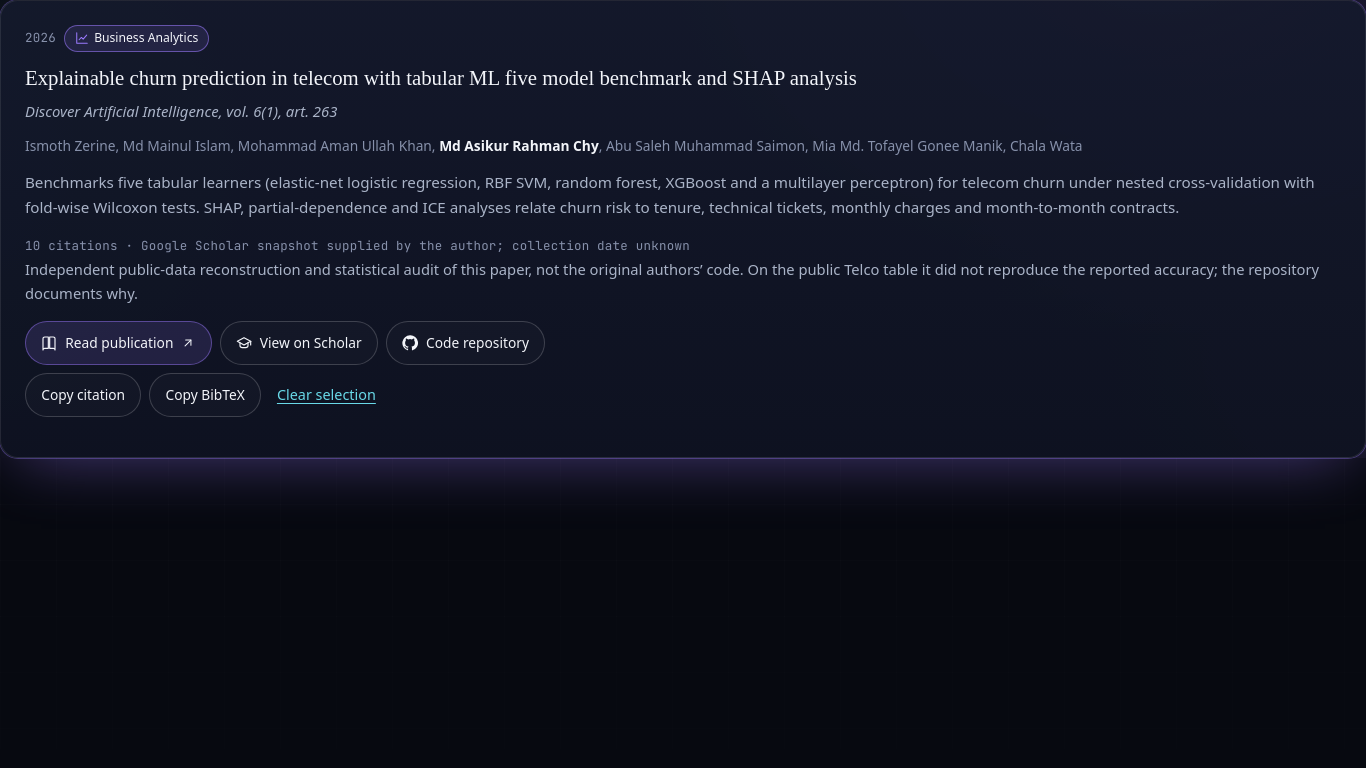
Test: PublicationDetails › copies a citation and reports failure gracefully
Click the button "Copy citation" at (83, 395), box [25, 373, 141, 417]
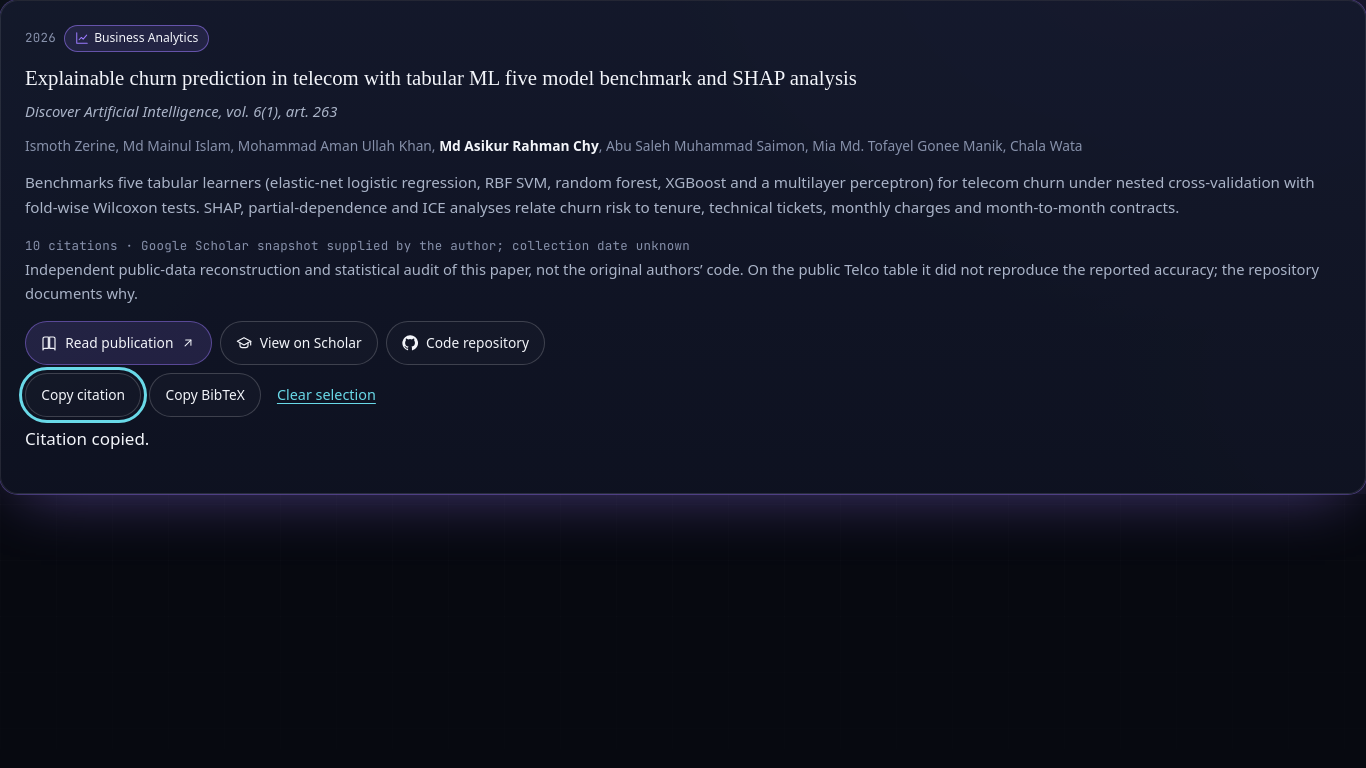
Check: the text "Citation copied." is shown, box [25, 427, 149, 450]
Click the button "Copy BibTeX" at (205, 395), box [149, 373, 261, 417]
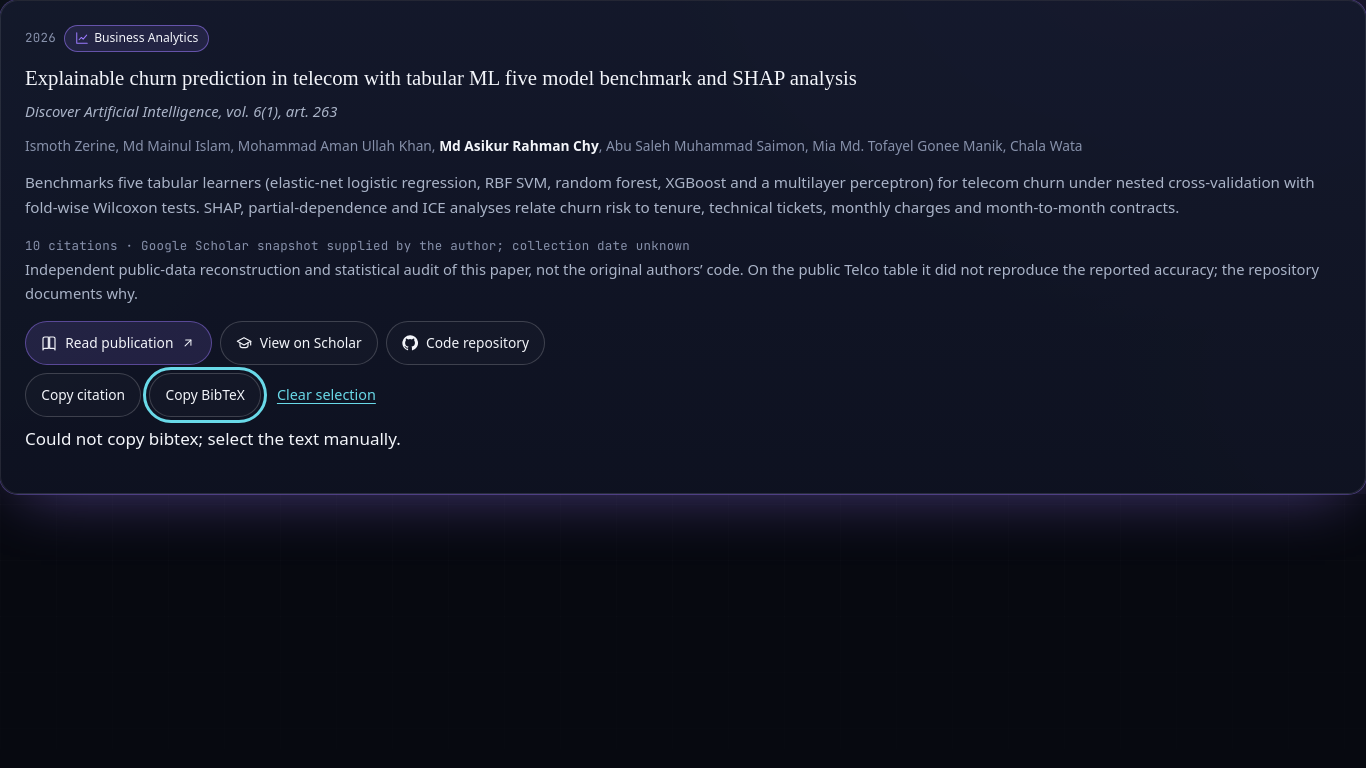
Check: the text "Could not copy bibtex; select the text manually." is shown, box [25, 427, 401, 450]
